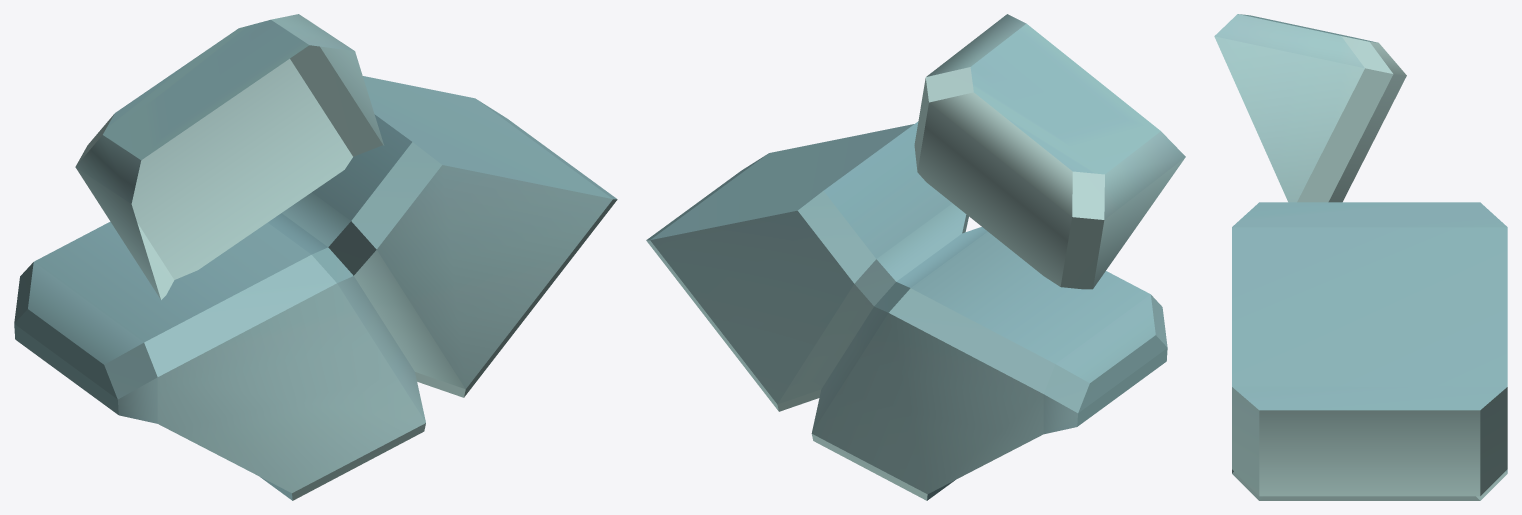
The model's file is Arch Gate Debris 02.FBX.
3 renders of one model, left to right at view 1: azimuth 30°, elevation 25°; view 2: azimuth 150°, elevation 25°; view 3: azimuth 270°, elevation 25°, orthographic. The views are drawn at different scales.
Visible parts, largest first — view 1: Arch Gate Debris 02; view 2: Arch Gate Debris 02; view 3: Arch Gate Debris 02.
Boxes of the visible parts, left/top/right/bottom form: Arch Gate Debris 02: left=14, top=14, right=617, bottom=500; Arch Gate Debris 02: left=646, top=14, right=1185, bottom=500; Arch Gate Debris 02: left=1214, top=14, right=1507, bottom=500.
Bounding box in the file's own units: 222 × 113 × 196.
1 material, 1 textured.
